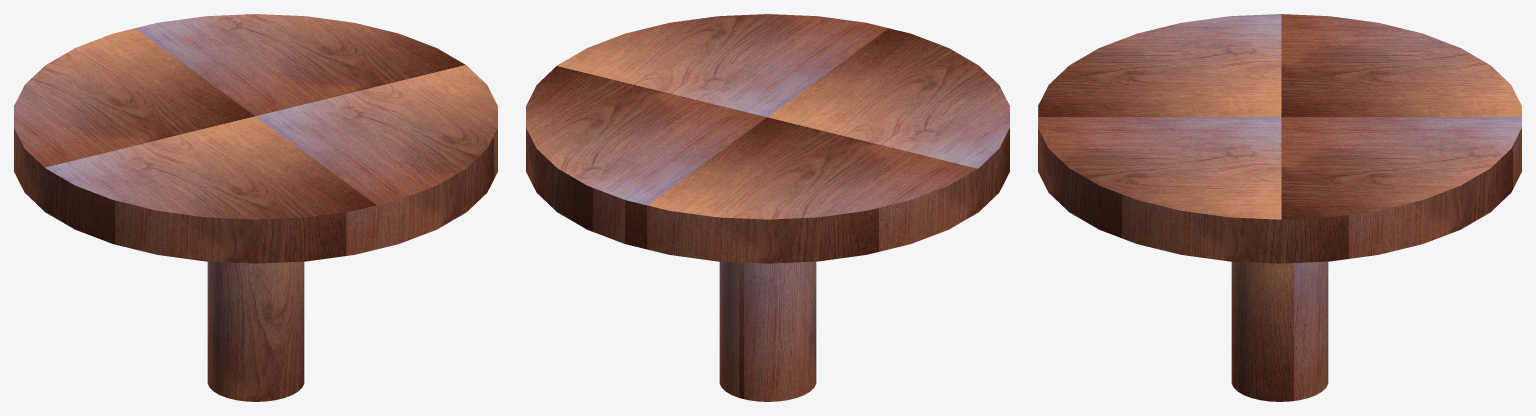
The model's file is table.obj.
3 renders of one model, left to right at view 1: azimuth 30°, elevation 25°; view 2: azimuth 150°, elevation 25°; view 3: azimuth 270°, elevation 25°, orthographic.
Visible parts, largest first — view 1: Cylinder001, Cylinder002; view 2: Cylinder001, Cylinder002; view 3: Cylinder001, Cylinder002.
Boxes of the visible parts, bbox=[...] form: Cylinder001: bbox=[14, 14, 497, 263]; Cylinder002: bbox=[207, 261, 304, 401]; Cylinder001: bbox=[526, 14, 1009, 263]; Cylinder002: bbox=[719, 261, 816, 401]; Cylinder001: bbox=[1038, 14, 1521, 263]; Cylinder002: bbox=[1231, 261, 1328, 401].
Size of the model in its own units: 2 by 1.2 by 1.99.
Materials: 1 (1 with a texture image).
